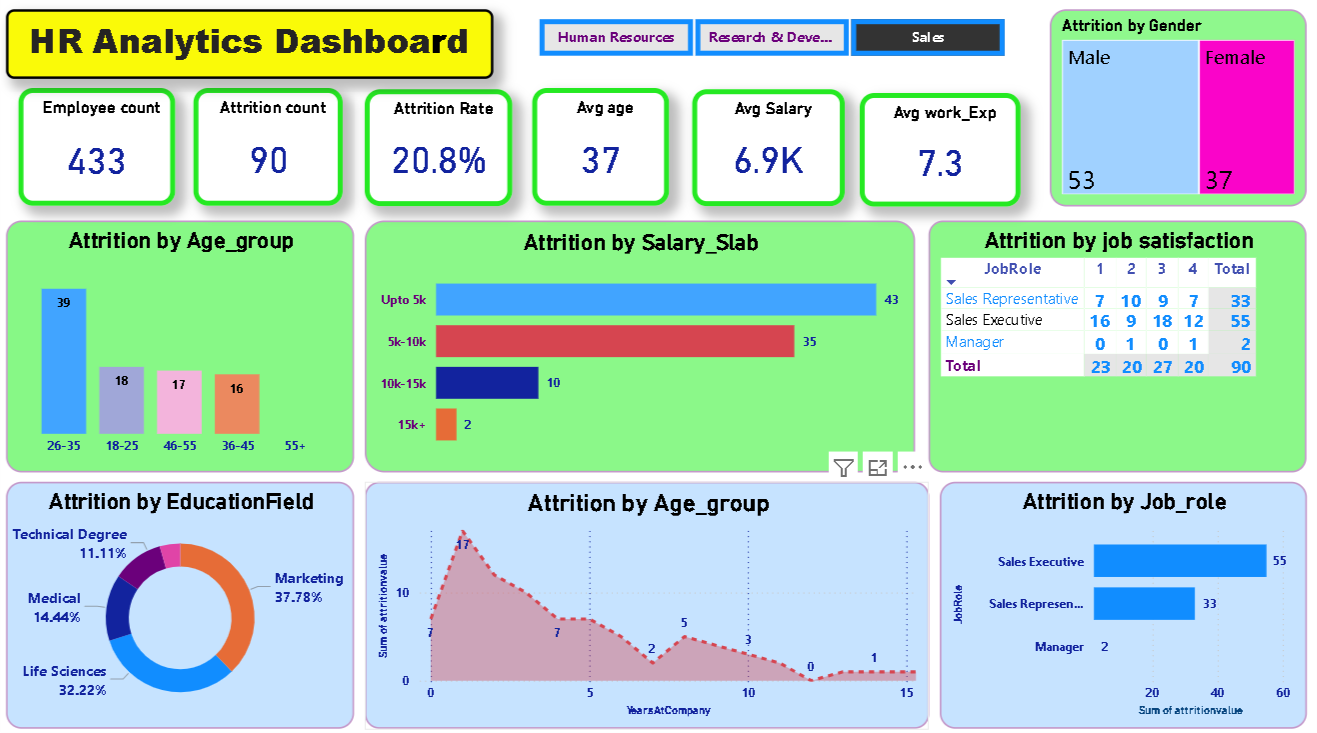

Layout of this report page (visuals, bound fields, positions):
{"tool":"powerbi","page":{"name":"Page 1","canvas":[1280,720],"ordinal":0},"visuals":[{"type":"card","title":" Employee count","fields":{"Values":["CountNonNull(HR_Analytics.EmpID)"]},"box":[23.3,91.9,150.9,113.9],"z":0},{"type":"card","title":"Avg age ","fields":{"Values":["Avg(HR_Analytics.Age)"]},"box":[518.7,91.9,131.7,113.9],"z":1000},{"type":"card","title":"Attrition count","fields":{"Values":["Sum(HR_Analytics.attritionvalue)"]},"box":[192.1,91.9,144.1,113.9],"z":2000},{"type":"card","title":" Attrition Rate","fields":{"Values":["HR_Analytics.AttritionRate"]},"box":[356.8,93.3,142.7,112.5],"z":3000},{"type":"card","title":"Avg Salary","fields":{"Values":["Avg(HR_Analytics.MonthlyIncome)"]},"box":[673.8,93.3,146.8,112.5],"z":4000},{"type":"card","title":"Avg work_Exp","fields":{"Values":["Avg(HR_Analytics.YearsAtCompany)"]},"box":[834.3,96.1,155.1,109.8],"z":5000},{"type":"donutChart","title":"Attrition by EducationField","fields":{"Category":["HR_Analytics.EducationField"],"Y":["Sum(HR_Analytics.attritionvalue)"]},"box":[11,472,336.2,238.8],"z":6000},{"type":"columnChart","title":"Attrition by Age_group","fields":{"Category":["HR_Analytics.AgeGroup"],"Y":["Sum(HR_Analytics.attritionvalue)"]},"box":[11,219.6,336.2,242.9],"z":7000},{"type":"pivotTable","title":"Attrition by job satisfaction","fields":{"Rows":["HR_Analytics.JobRole"],"Values":["Sum(HR_Analytics.attritionvalue)"],"Columns":["HR_Analytics.JobSatisfaction"]},"box":[901.5,219.6,365,242.9],"z":8000},{"type":"clusteredBarChart","title":"Attrition by Salary_Slab","fields":{"Category":["HR_Analytics.SalarySlab"],"Y":["Sum(HR_Analytics.attritionvalue)"]},"box":[356.8,219.6,531,242.9],"z":9000},{"type":"clusteredBarChart","title":"Attrition by Job_role","fields":{"Category":["HR_Analytics.JobRole"],"Y":["Sum(HR_Analytics.attritionvalue)"]},"box":[912.5,472,354,238.8],"z":10000},{"type":"areaChart","title":"Attrition by Age_group","fields":{"Category":["HR_Analytics.YearsAtCompany"],"Y":["Sum(HR_Analytics.attritionvalue)"]},"box":[356.8,472,544.8,238.8],"z":11000},{"type":"treemap","title":"Attrition by Gender","fields":{"Values":["Sum(HR_Analytics.attritionvalue)"],"Group":["HR_Analytics.Gender"]},"box":[1018.2,15.1,248.4,190.7],"z":12000},{"type":"slicer","fields":{"Values":["HR_Analytics.Department"]},"box":[499.5,17.8,499.5,49.4],"z":13000},{"type":"textbox","box":[11,15.1,470.7,67.2],"z":14000}]}

Visuals, with their boxes in screenshot pixels (x1, y1, x2, y2), scaled from the page's 1280x720 canvas onto the 1317x733 screenshot:
" Employee count" card: 24:94:179:210
"Avg age " card: 534:94:669:210
"Attrition count" card: 198:94:346:210
" Attrition Rate" card: 367:95:514:210
"Avg Salary" card: 693:95:844:210
"Avg work_Exp" card: 858:98:1018:210
"Attrition by EducationField" donutChart: 11:481:357:724
"Attrition by Age_group" columnChart: 11:224:357:471
"Attrition by job satisfaction" pivotTable: 928:224:1303:471
"Attrition by Salary_Slab" clusteredBarChart: 367:224:913:471
"Attrition by Job_role" clusteredBarChart: 939:481:1303:724
"Attrition by Age_group" areaChart: 367:481:928:724
"Attrition by Gender" treemap: 1048:15:1303:210
slicer - HR_Analytics.Department: 514:18:1028:68
textbox: 11:15:496:84
